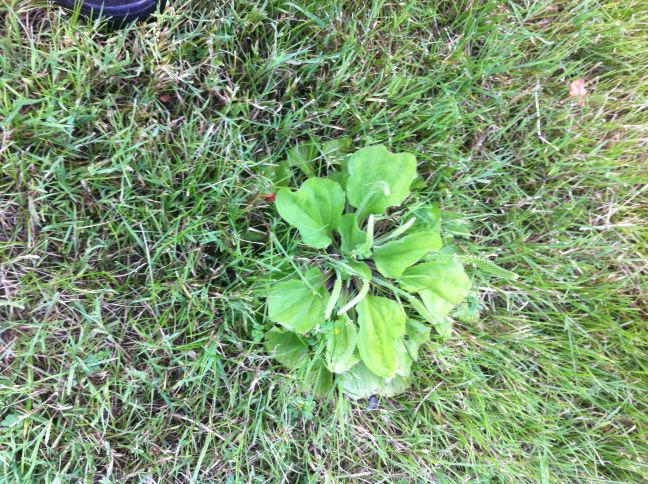weed1: (263, 144, 478, 401)
